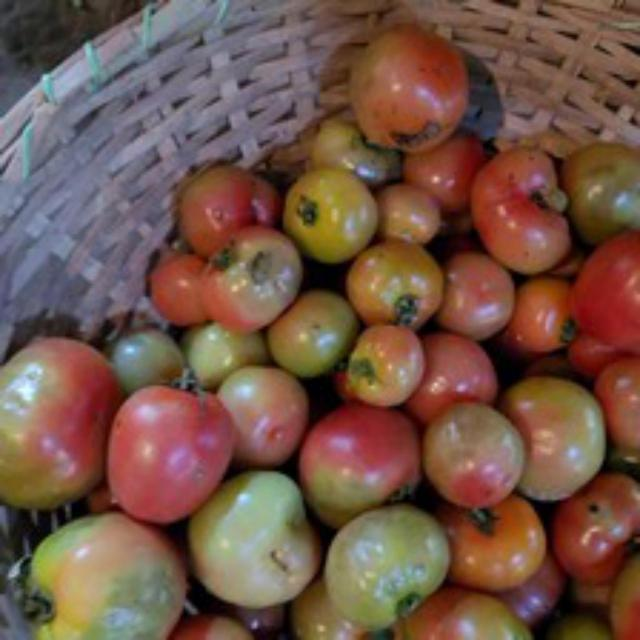tomato: (110, 381, 236, 529), (354, 22, 479, 158), (299, 392, 425, 516), (571, 220, 637, 342)
